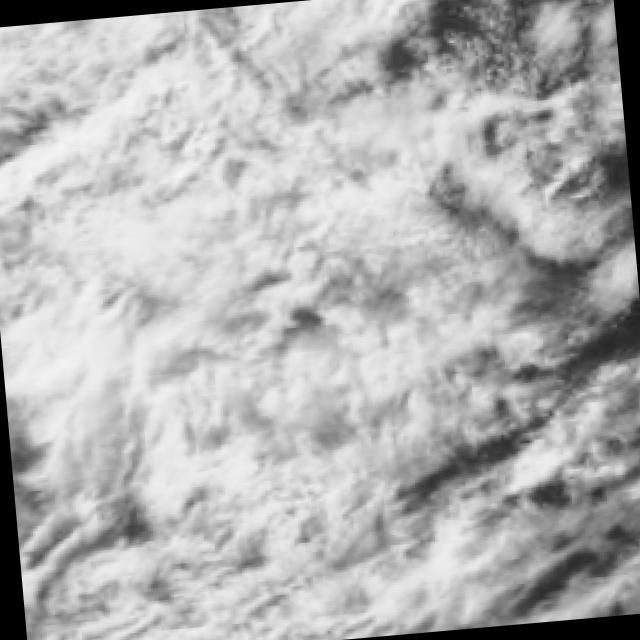CB: (74, 132, 271, 299), (0, 288, 169, 439)
